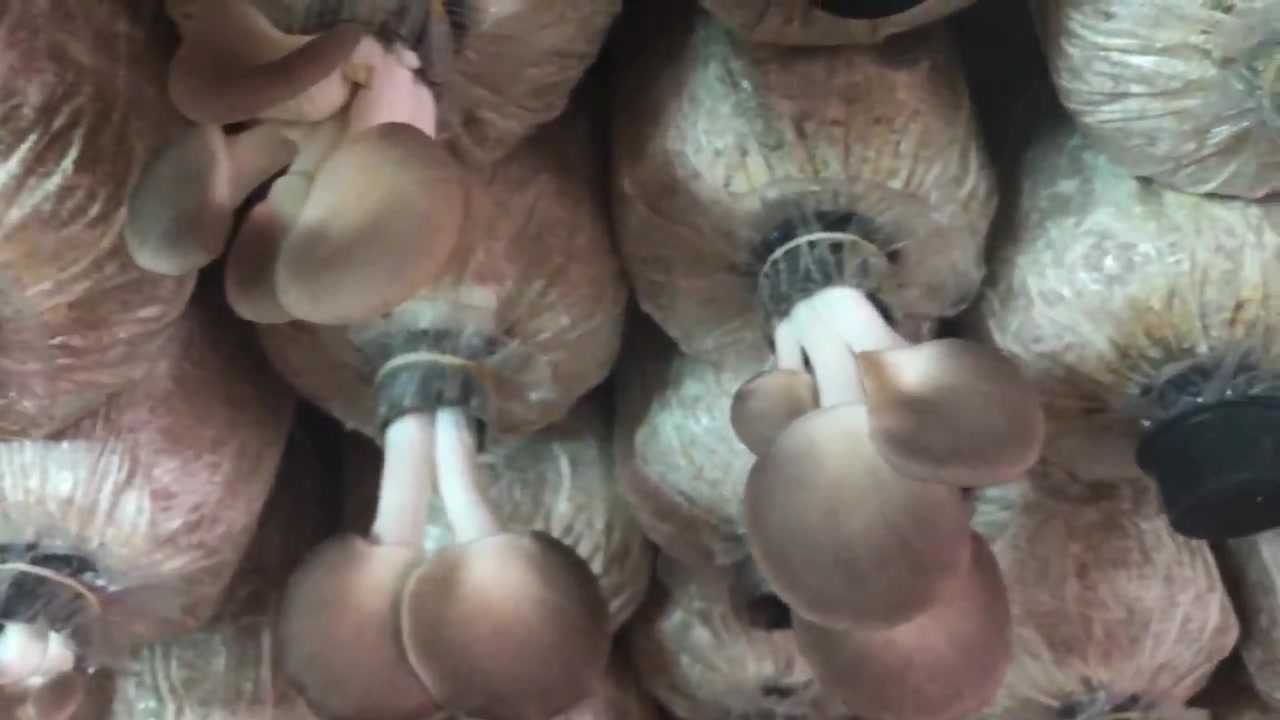nam: (735, 237, 1045, 720), (283, 359, 606, 720), (129, 1, 470, 325)
